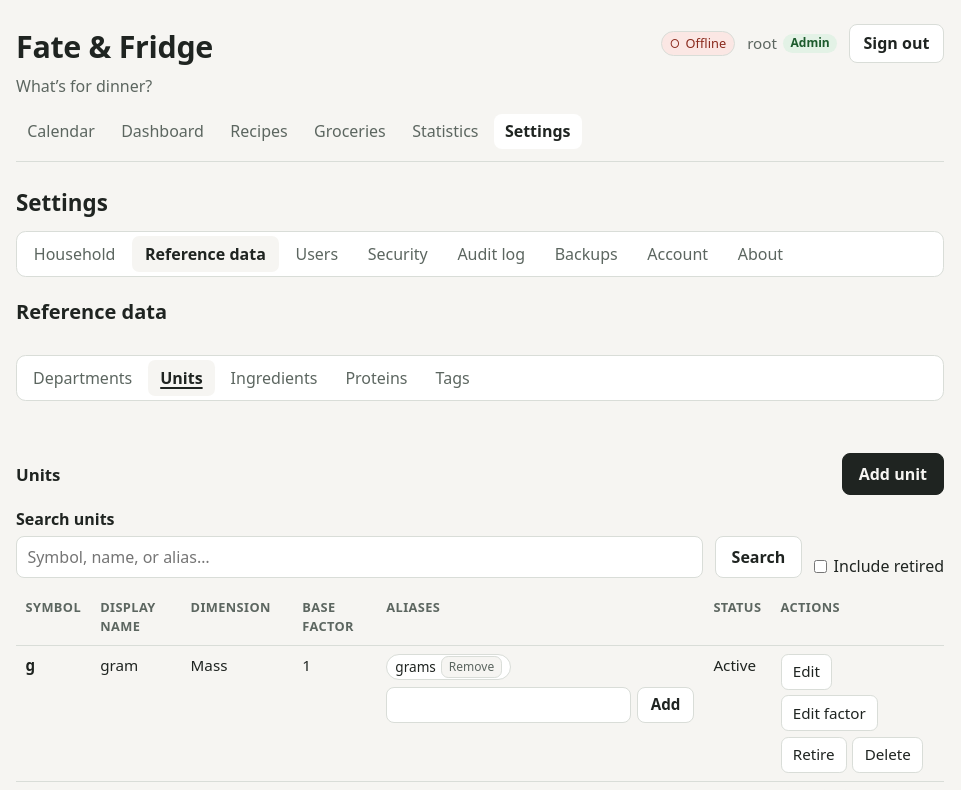
Scenario: units tab › lists active units with dimensions, factors, and aliases, and reveals retired rows
This screenshot has width=961, height=790.
Expected: the row "g" is shown, x1=16 y1=646 x2=944 y2=782
Expected: the text "gram" is shown, x1=91 y1=646 x2=181 y2=782
Click the checkbox labelled "Include retired": (821, 566) x1=814 y1=560 x2=827 y2=573
(page scrolled)
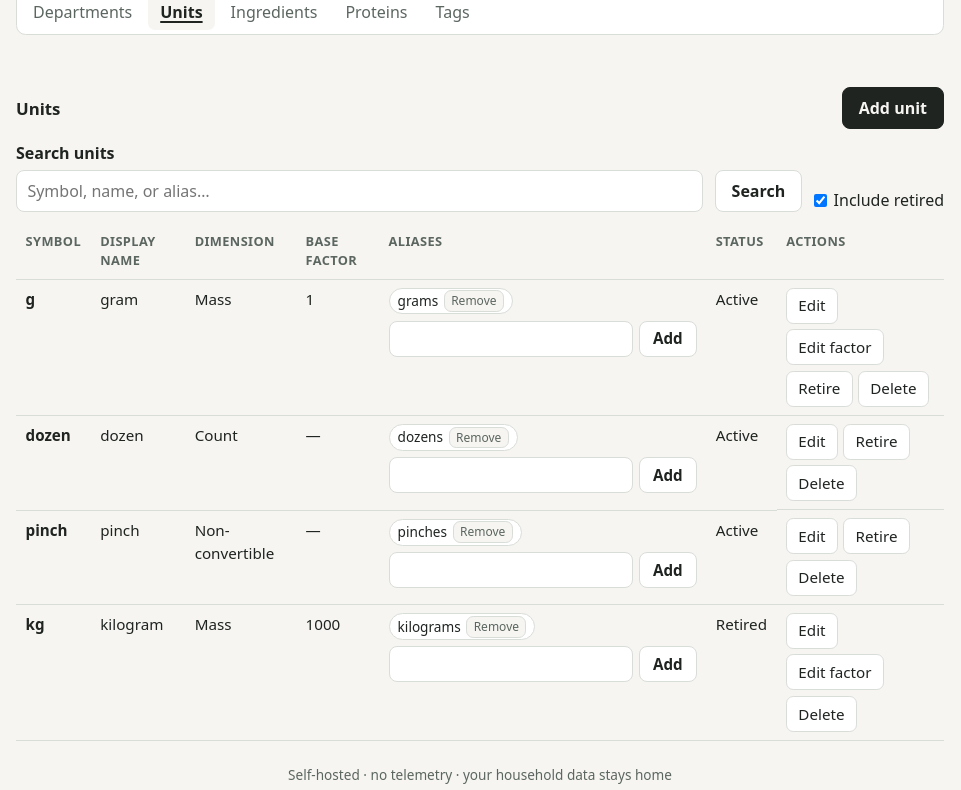
Now the row "kg" is shown, box x1=16 y1=605 x2=944 y2=741
Now the text "Retired" is shown, box x1=706 y1=605 x2=777 y2=741
Now the text "1000" is shown, box x1=296 y1=605 x2=379 y2=741
